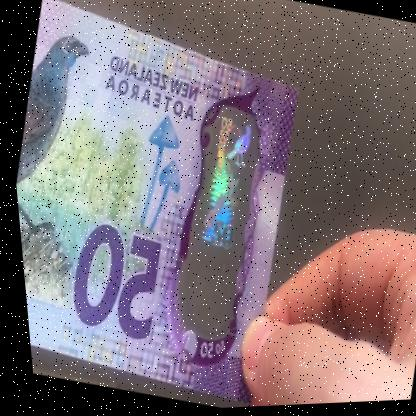50B: (166, 111, 270, 324)
